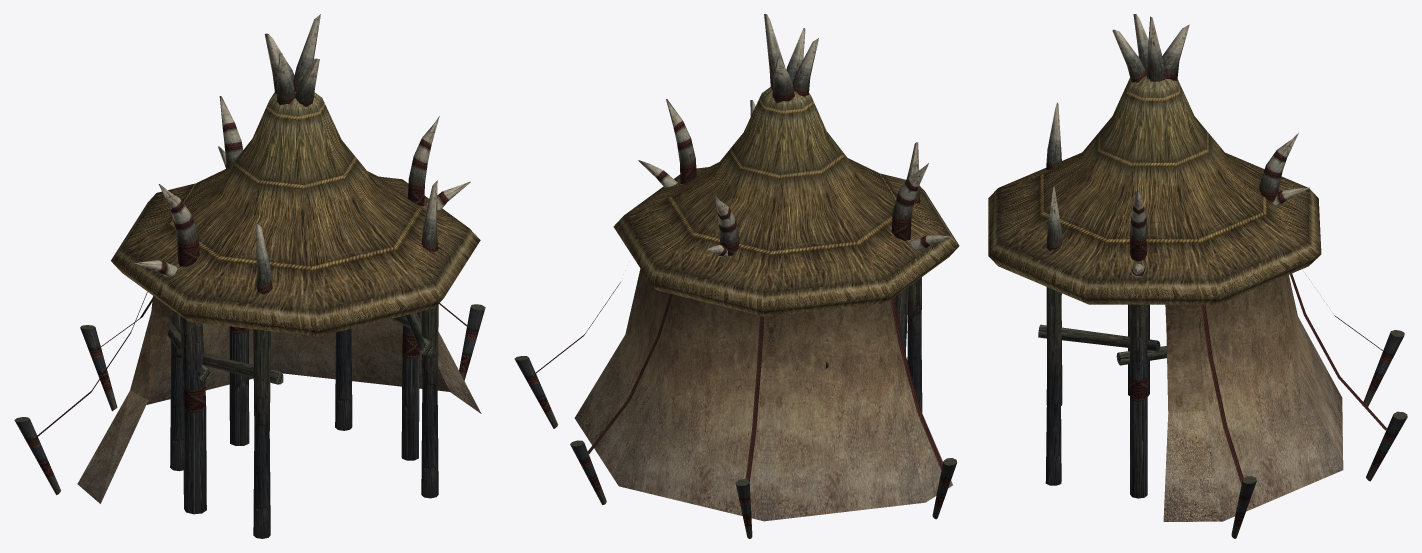
Rendered from camp_redthief_build_01.fbx.
The picture shows the model from 3 angles, left to right: view 1: azimuth 30°, elevation 25°; view 2: azimuth 150°, elevation 25°; view 3: azimuth 270°, elevation 25°; orthographic projection. The views are drawn at different scales.
Visible parts, largest first — view 1: camp_redthief_build_01; view 2: camp_redthief_build_01; view 3: camp_redthief_build_01.
Part boxes in pixels (<box>): camp_redthief_build_01: <box>14,14,485,538</box>; camp_redthief_build_01: <box>514,14,959,538</box>; camp_redthief_build_01: <box>988,14,1407,538</box>.
Bounding box in the file's own units: 12.12 × 11.43 × 9.78.
